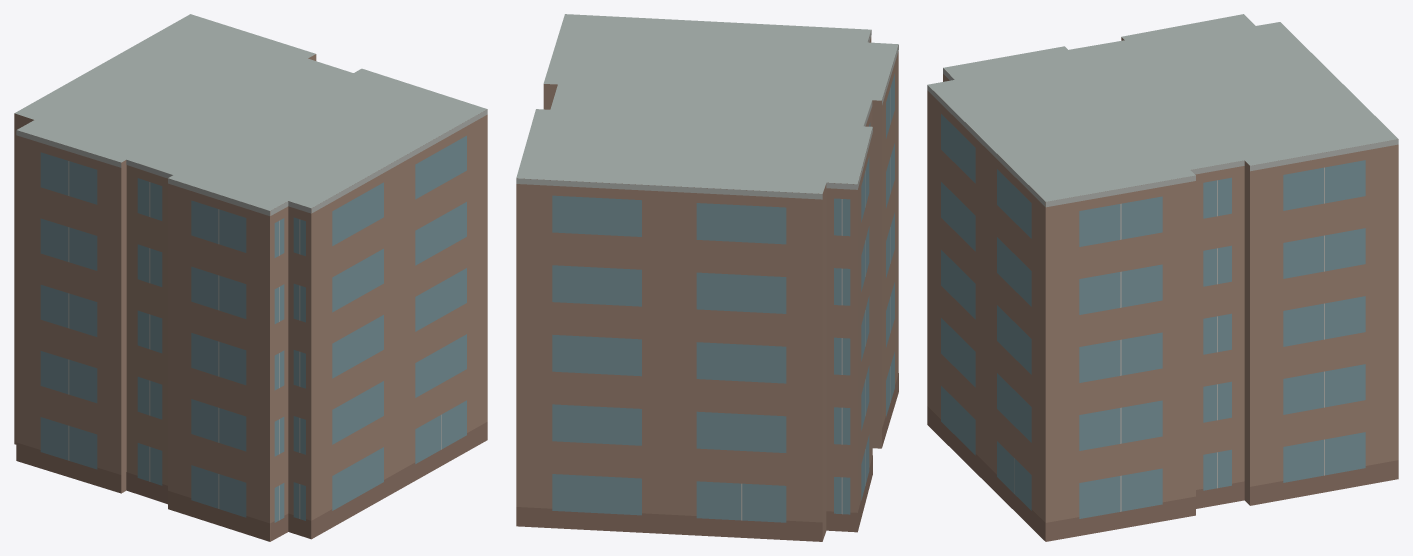
File: survey-upis-32963153.glb
The picture shows the model from 3 angles, left to right: view 1: azimuth 30°, elevation 25°; view 2: azimuth 150°, elevation 25°; view 3: azimuth 270°, elevation 25°; orthographic projection. The views are drawn at different scales.
Visible parts, largest first — view 1: survey-upis-32963153.tmp; view 2: survey-upis-32963153.tmp; view 3: survey-upis-32963153.tmp.
Boxes of the visible parts, x1=… form: survey-upis-32963153.tmp: x1=14, y1=14, x2=487, y2=541; survey-upis-32963153.tmp: x1=516, y1=14, x2=898, y2=541; survey-upis-32963153.tmp: x1=927, y1=14, x2=1398, y2=541.
Size of the model in its own units: 18.02 by 15.2 by 19.11.
